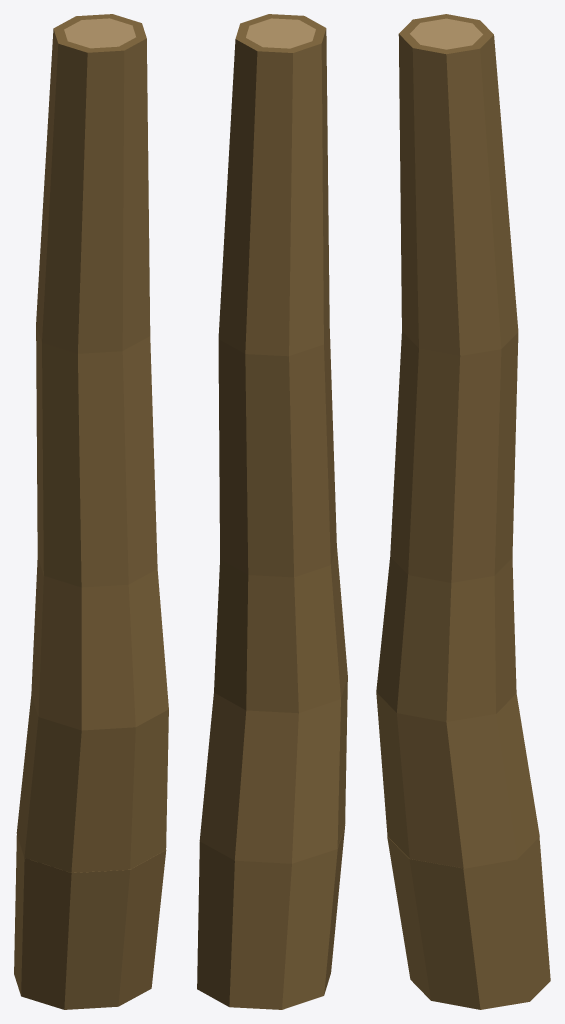
Rendered from log animation.fbx.
3 renders of one model, left to right at view 1: azimuth 30°, elevation 25°; view 2: azimuth 150°, elevation 25°; view 3: azimuth 270°, elevation 25°, orthographic. The views are drawn at different scales.
Parts seen in each view (by area): view 1: pCylinder1, pCylinder2; view 2: pCylinder1, pCylinder2; view 3: pCylinder1, pCylinder2.
Part boxes in pixels (<box>): pCylinder1: <box>16,14,168,872</box>; pCylinder2: <box>14,835,166,1009</box>; pCylinder1: <box>199,14,347,863</box>; pCylinder2: <box>197,824,345,1009</box>; pCylinder1: <box>376,14,539,868</box>; pCylinder2: <box>387,836,550,1009</box>.
Size of the model in its own units: 2 by 13.72 by 2.29.
